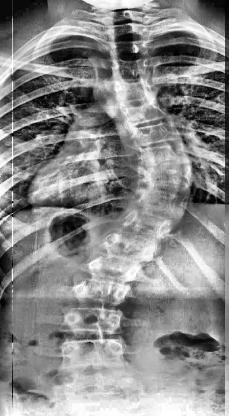Vertebrae: (130, 181, 198, 219), (92, 230, 162, 264), (57, 334, 128, 366), (58, 302, 126, 334), (67, 274, 134, 306), (113, 204, 176, 238), (78, 247, 142, 280), (130, 160, 200, 188), (134, 138, 192, 166), (127, 120, 183, 148), (115, 100, 169, 126), (111, 78, 157, 104), (104, 57, 158, 79), (104, 38, 156, 60)
